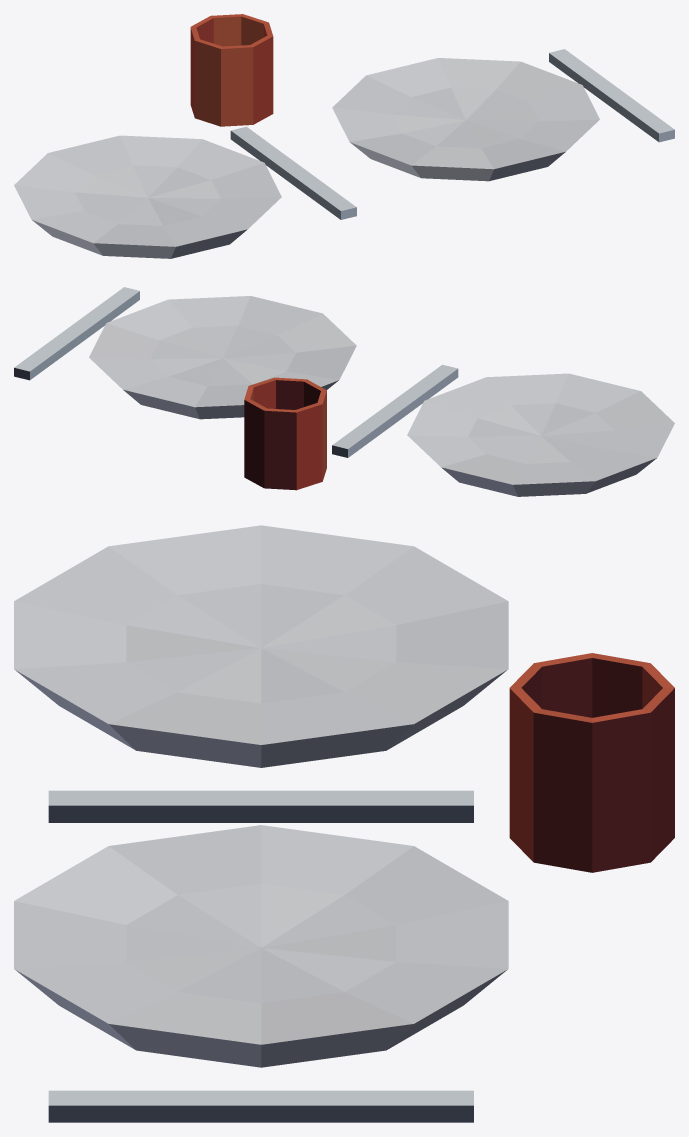
Rendered from tableware.glb.
3 renders of one model, top to bottom at view 1: azimuth 30°, elevation 25°; view 2: azimuth 150°, elevation 25°; view 3: azimuth 270°, elevation 25°, orthographic. The views are drawn at different scales.
Visible parts, largest first — view 1: tableware; view 2: tableware; view 3: tableware.
Part boxes in pixels (bbox=[...]): tableware: bbox=[14, 14, 674, 258]; tableware: bbox=[14, 287, 674, 496]; tableware: bbox=[14, 525, 674, 1122].
Bounding box in the file's own units: 0.555 × 0.07 × 0.2796.
